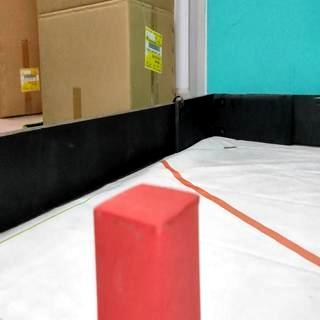redbox: (94, 181, 200, 320)
